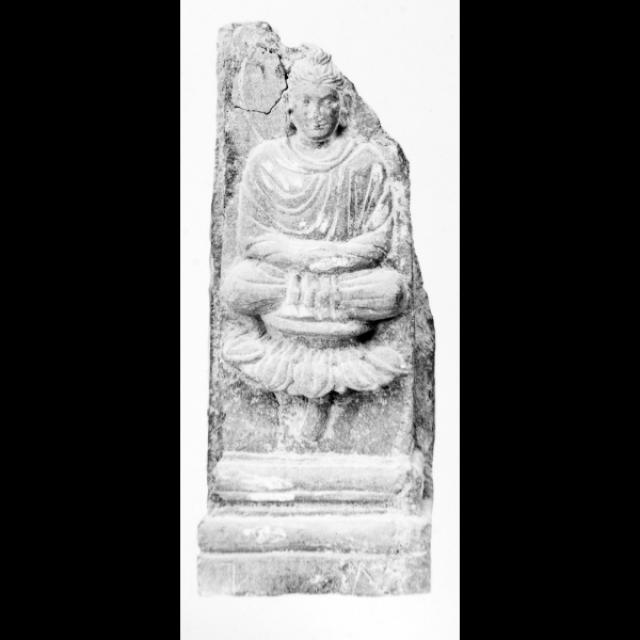buddha-sitting: (222, 50, 408, 435)
